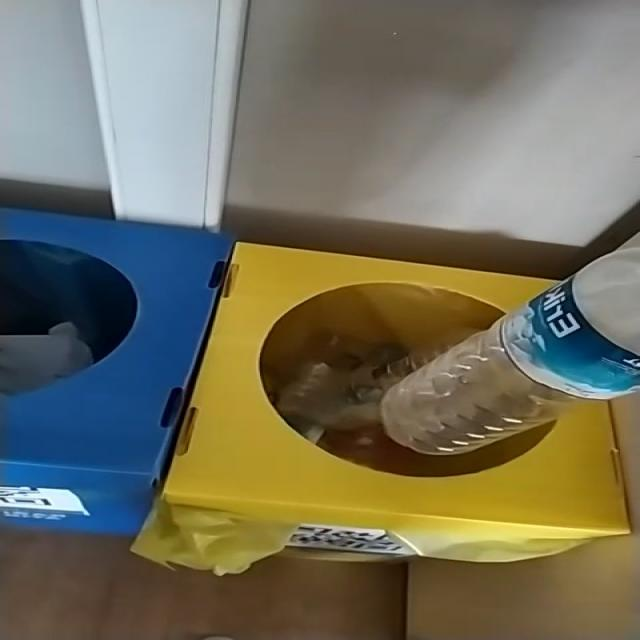plastic: (380, 241, 640, 456)
